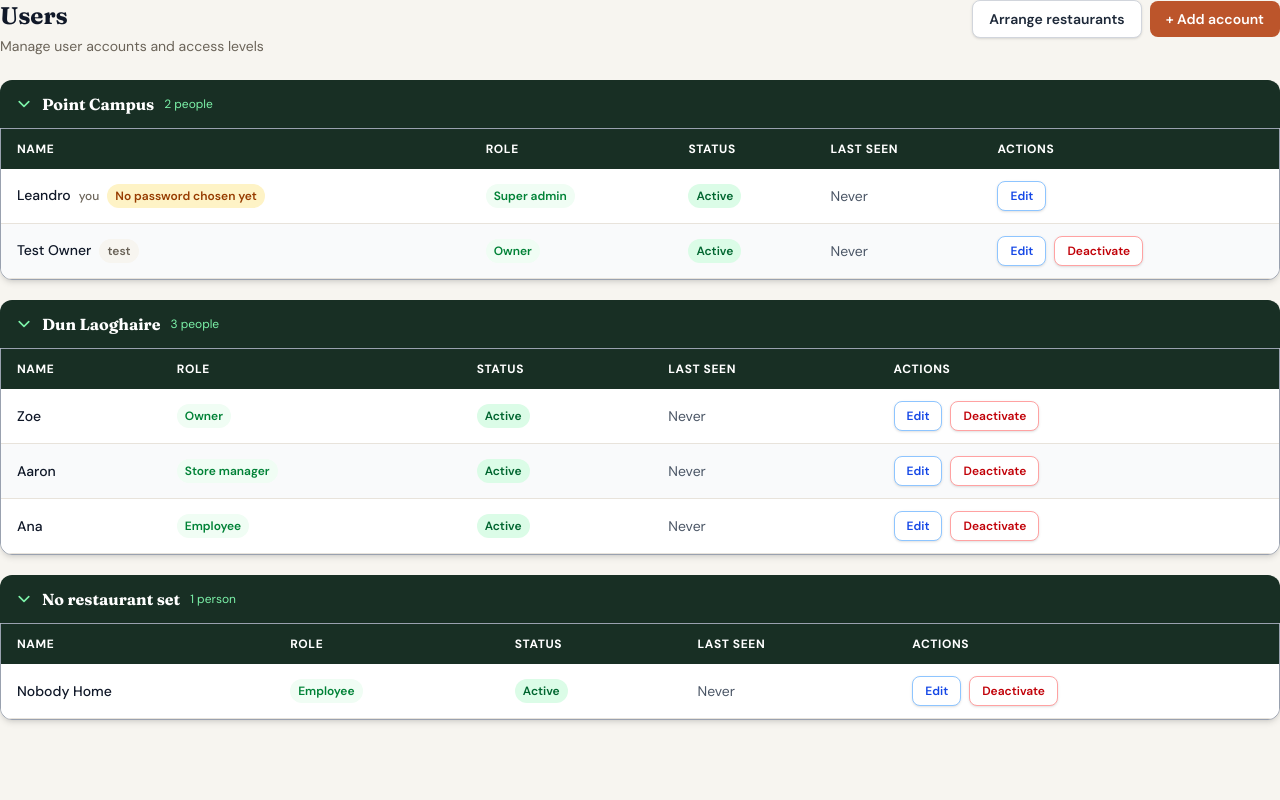
Test: adding an account › keeps the dialog open and says why when it did not go
Click the button "+ Add account".
click(1215, 19)  # box 1150,1 -> 1279,37
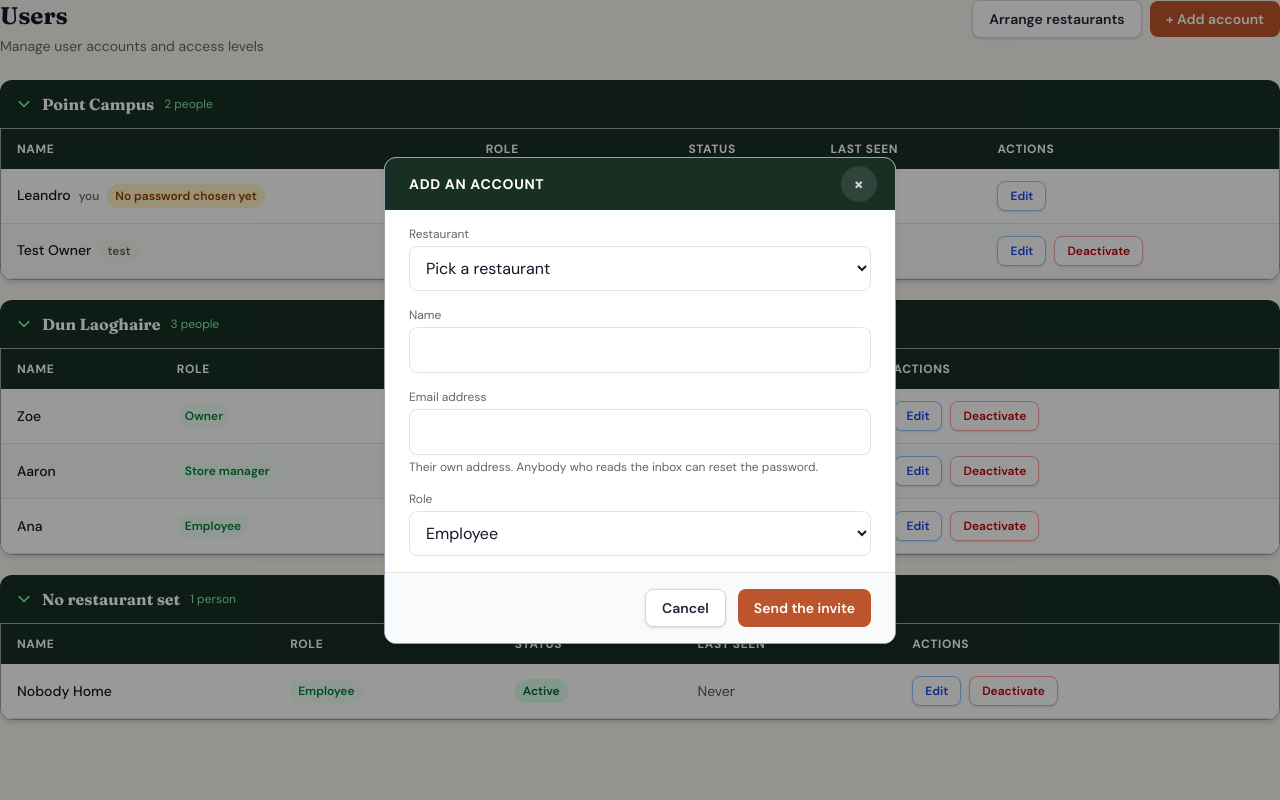
Select "Point Campus" in the dropdown labelled "Restaurant" at (640, 268), box 409,246 -> 871,290
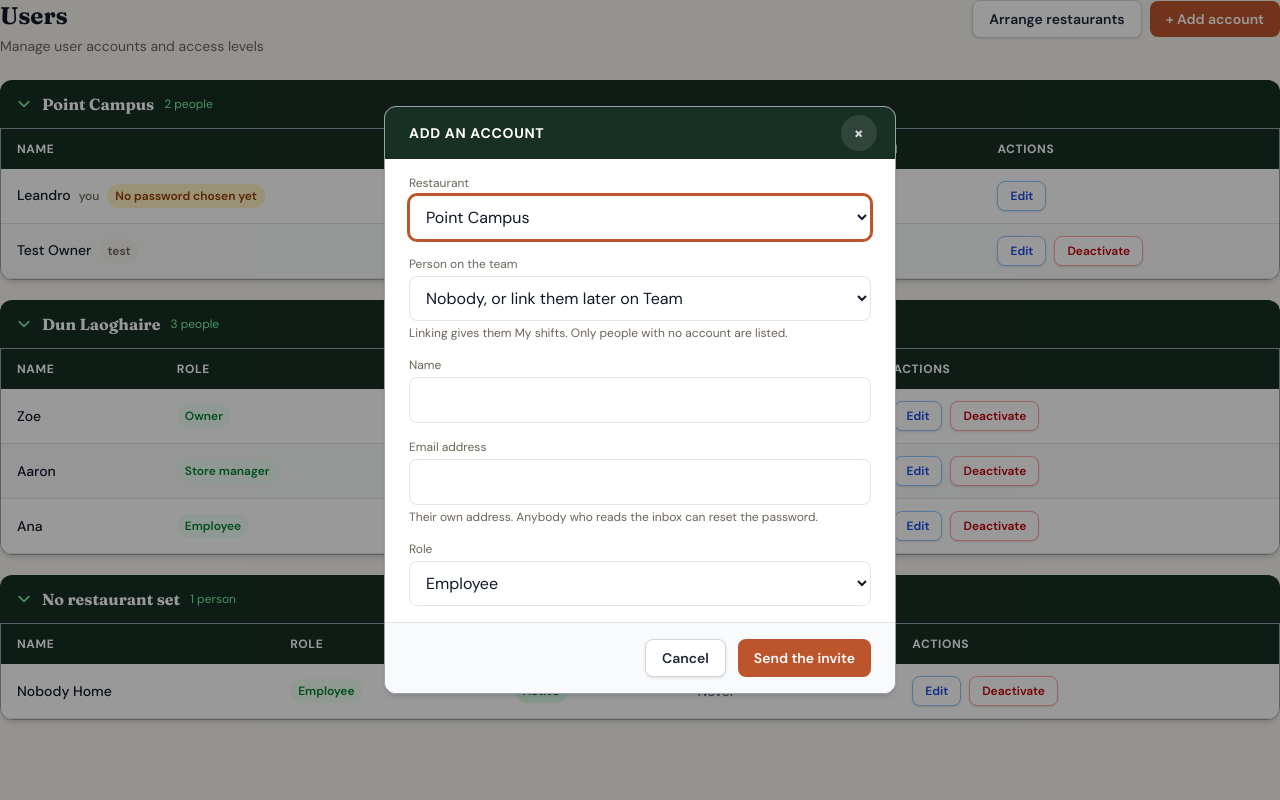
Type "Maria Silva" into the field labelled "Name".
click(640, 400); type("Maria Silva")  # box 409,377 -> 871,423
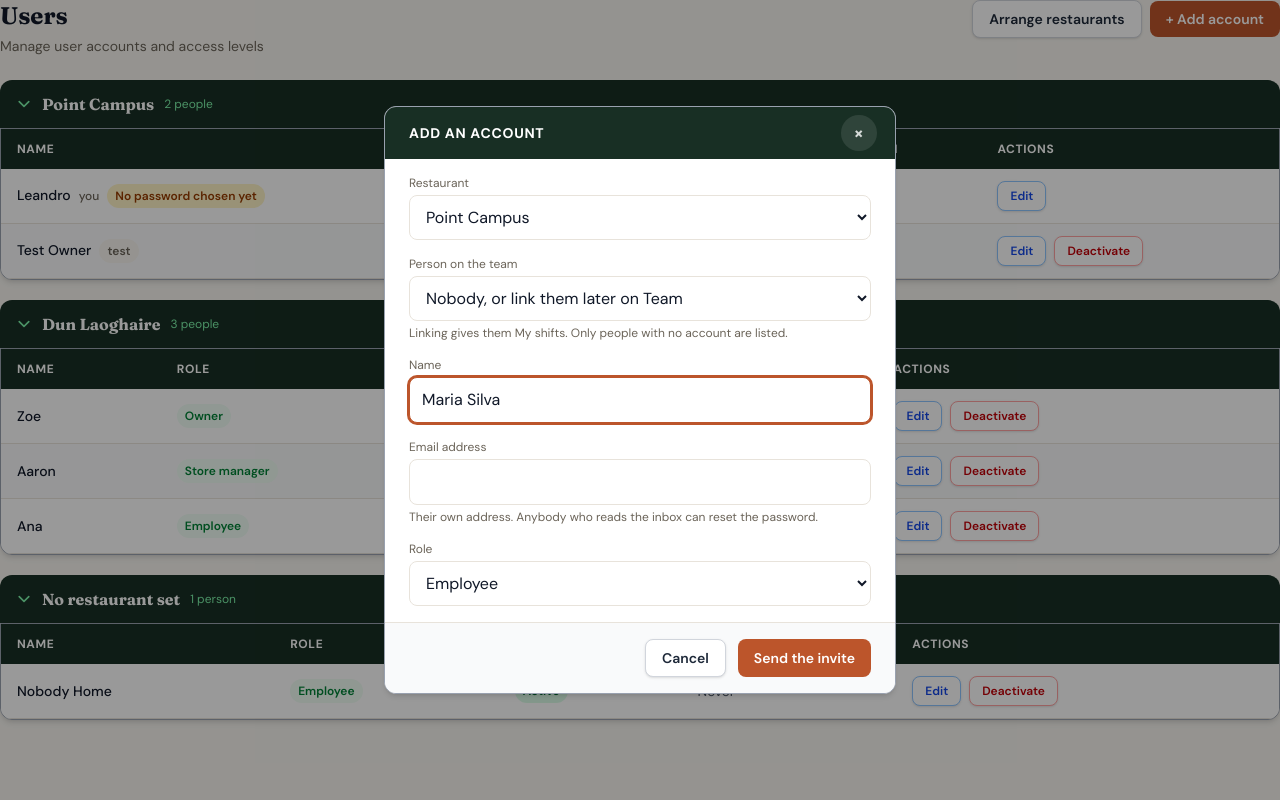
Type "maria@papichulo.ie" into the field labelled "Email address".
click(640, 482); type("maria@papichulo.ie")  # box 409,459 -> 871,505
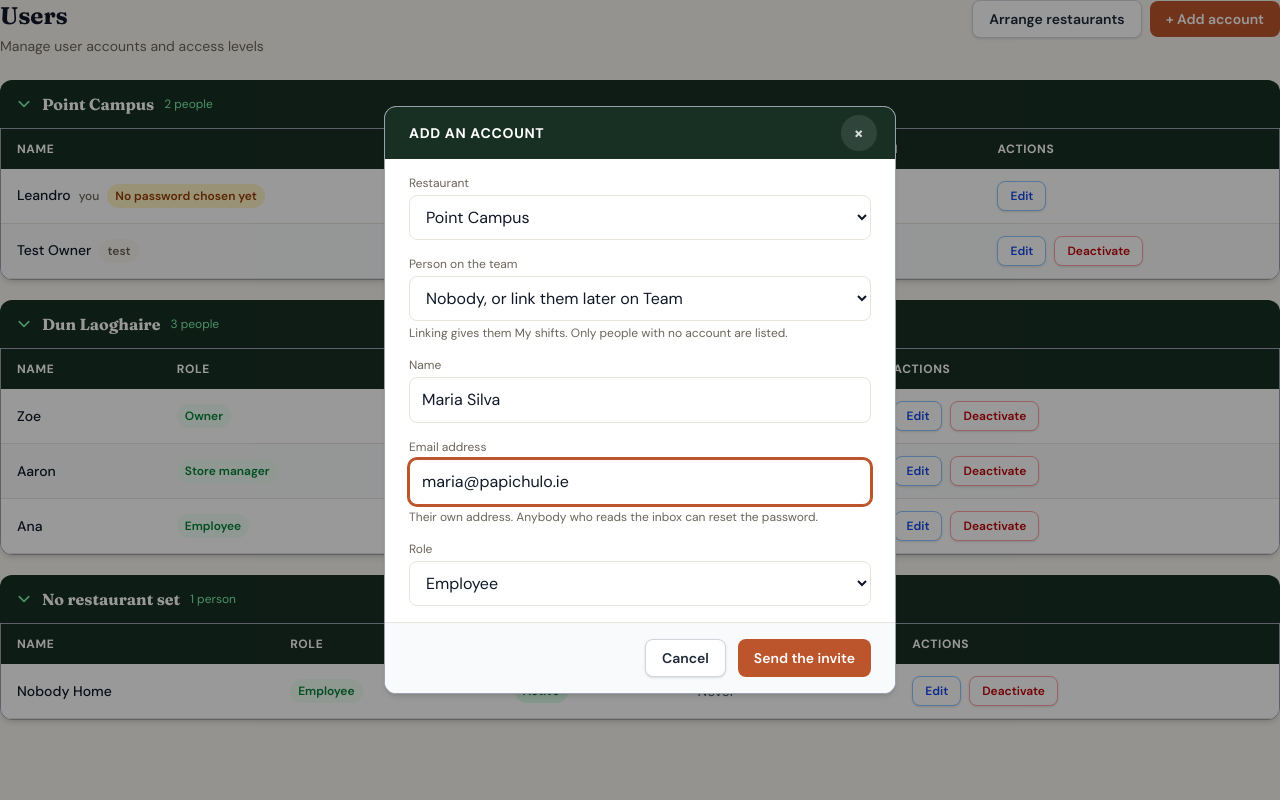
Click the button "Send the invite".
click(804, 658)  # box 738,639 -> 871,677
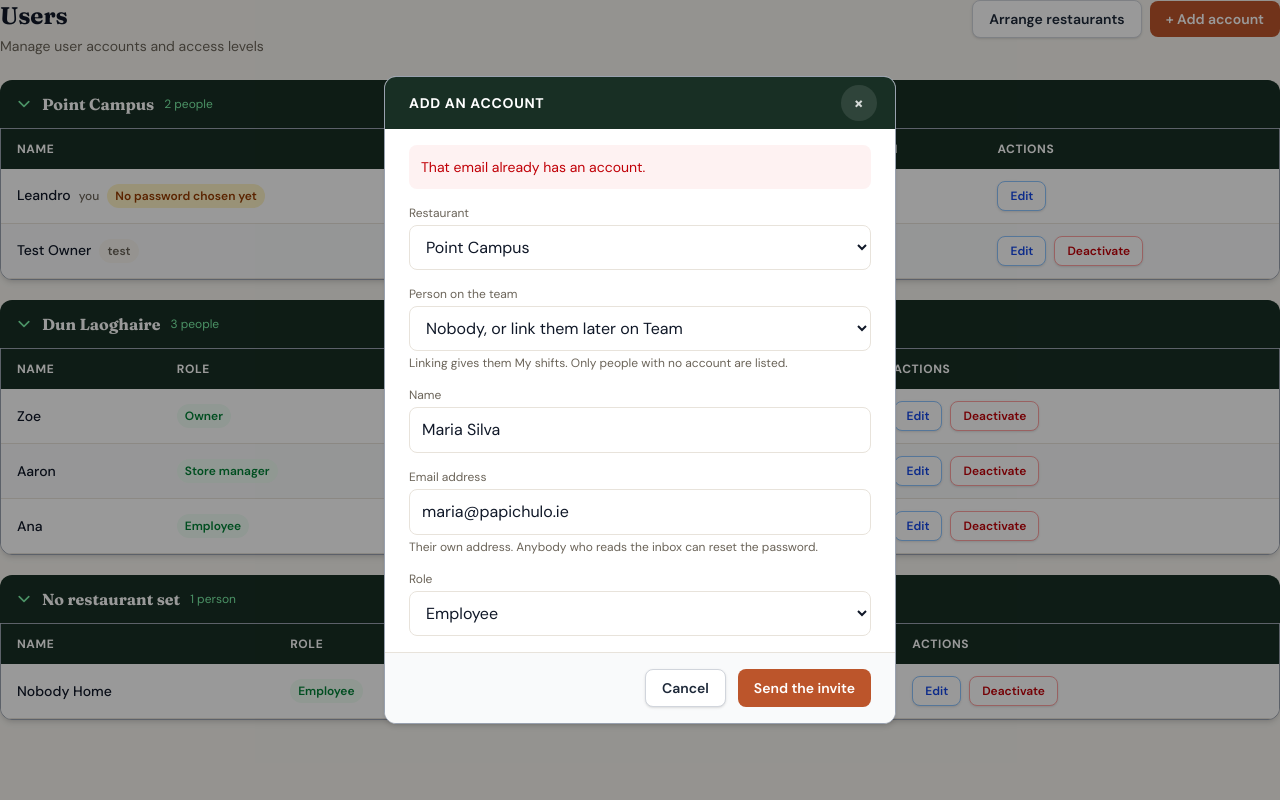
Now the dialog "Add an account" is shown, box 384,76 -> 896,724
Now the text "That email already has an account." is shown, box 409,145 -> 871,189
